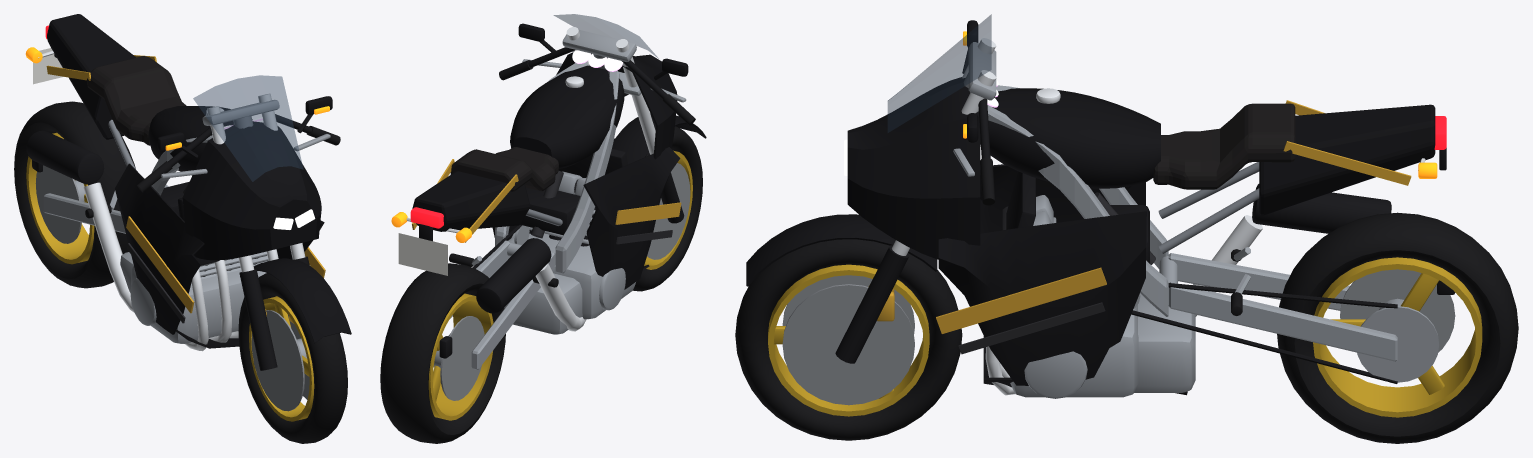
Rendered from phantom-x1000.glb.
The picture shows the model from 3 angles, left to right: view 1: azimuth 30°, elevation 25°; view 2: azimuth 150°, elevation 25°; view 3: azimuth 270°, elevation 25°; orthographic projection. The views are drawn at different scales.
Visible parts, largest first — view 1: Bodywork, FrontForkMesh, Tire_R, Exhaust, Tire_F, Rim_F, Seat, Engine, Rim_R, FuelTank, SwingarmMesh, Frame (+2 smaller); view 2: Bodywork, Tire_R, Engine, FuelTank, FrontForkMesh, Rim_R, Frame, Exhaust, SwingarmMesh, Seat, Tire_F, Rim_F (+2 smaller); view 3: Bodywork, Tire_R, Rim_F, Tire_F, SwingarmMesh, FuelTank, Rim_R, Engine, FrontForkMesh, Seat, Frame, Exhaust (+1 smaller).
Part boxes in pixels (<box>): Bodywork: <box>38,14,332,348</box>; FrontForkMesh: <box>137,93,351,370</box>; Tire_R: <box>14,101,135,288</box>; Exhaust: <box>26,130,278,351</box>; Tire_F: <box>238,273,347,443</box>; Rim_F: <box>249,296,314,421</box>; Seat: <box>87,56,186,145</box>; Engine: <box>120,181,268,343</box>; Rim_R: <box>26,132,94,264</box>; FuelTank: <box>148,106,252,171</box>; SwingarmMesh: <box>32,160,125,233</box>; Frame: <box>85,116,253,218</box>; Bodywork: <box>406,14,688,289</box>; Tire_R: <box>380,263,505,443</box>; Engine: <box>504,149,635,334</box>; FuelTank: <box>510,65,624,168</box>; FrontForkMesh: <box>499,27,706,223</box>; Rim_R: <box>428,293,493,420</box>; Frame: <box>449,54,619,287</box>; Exhaust: <box>476,238,586,331</box>; SwingarmMesh: <box>439,225,555,369</box>; Seat: <box>450,147,558,191</box>; Tire_F: <box>633,126,702,291</box>; Rim_F: <box>644,150,692,269</box>; Bodywork: <box>847,14,1446,387</box>; Tire_R: <box>1277,212,1518,443</box>; Rim_F: <box>768,264,929,416</box>; Tire_F: <box>735,239,962,440</box>; SwingarmMesh: <box>1131,253,1455,383</box>; FuelTank: <box>988,88,1160,188</box>; Rim_R: <box>1313,257,1482,417</box>; Engine: <box>1002,171,1195,398</box>; FrontForkMesh: <box>746,38,996,363</box>; Seat: <box>1153,103,1295,189</box>; Frame: <box>963,73,1259,395</box>; Exhaust: <box>985,184,1391,395</box>.
Bounding box in the file's own units: 0.7885 × 1.19 × 2.07.
